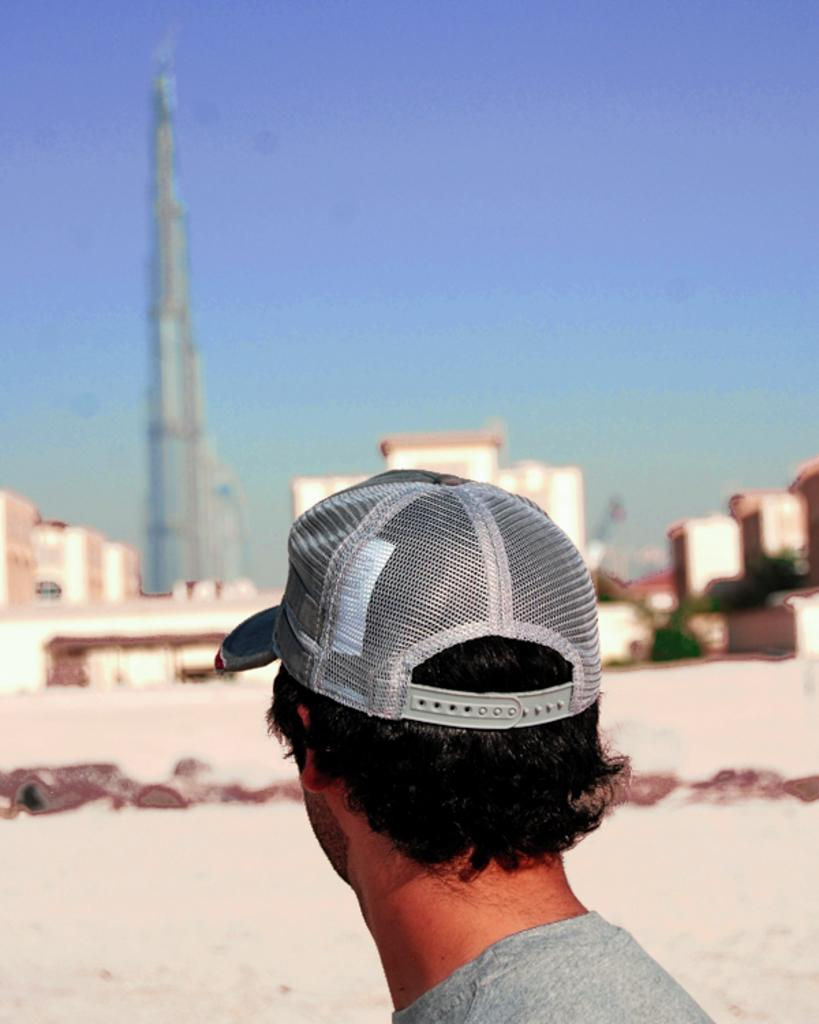Hat: (216, 463, 606, 729)
